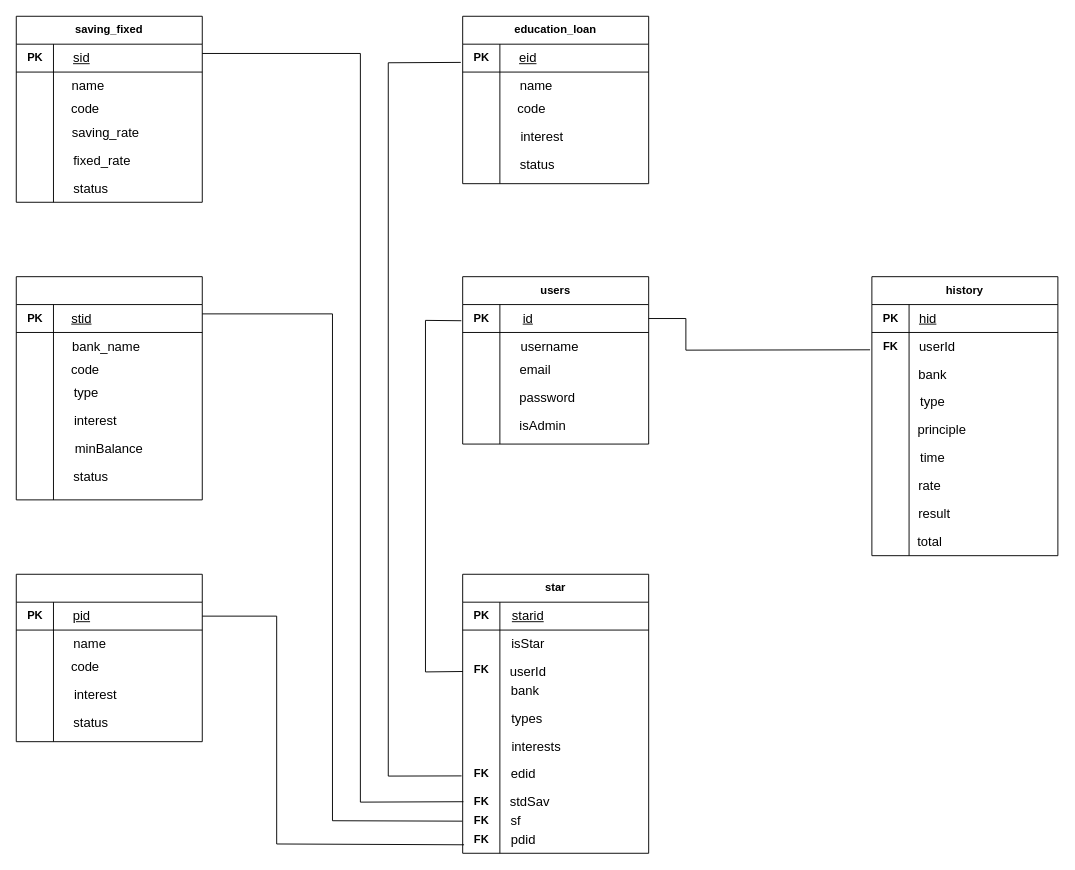
This 1075x870 diagram has some shape labels left out. The box of each missing label's shape, as (x1, y1, x2, y2) in pixels:
personal_loan: (15, 573, 202, 742)
student_saving: (15, 276, 202, 500)
